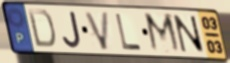D: (26, 8, 57, 50)
J: (61, 10, 83, 50)
L: (114, 12, 143, 52)
M: (142, 11, 184, 55)
N: (172, 14, 207, 55)
V: (83, 10, 111, 52)
